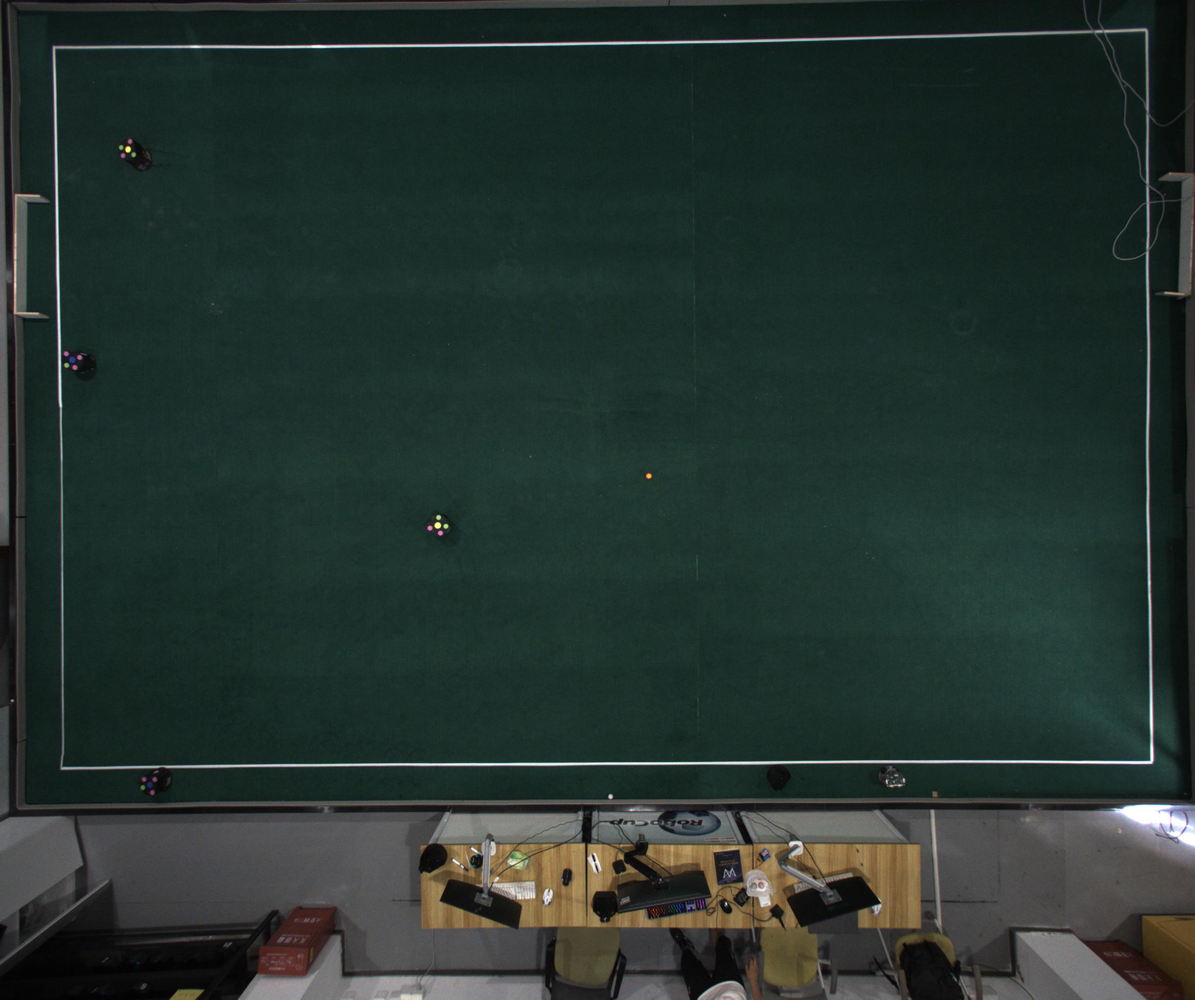ball: (645, 473, 653, 480)
blue_bot: (139, 775, 161, 796), (62, 350, 84, 371)
yellow_bot: (427, 514, 449, 537), (118, 138, 139, 162)
